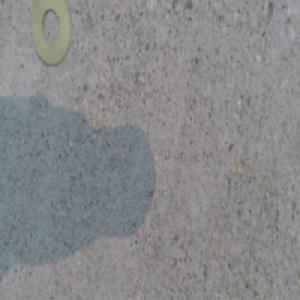Washer: (32, 0, 70, 67)
